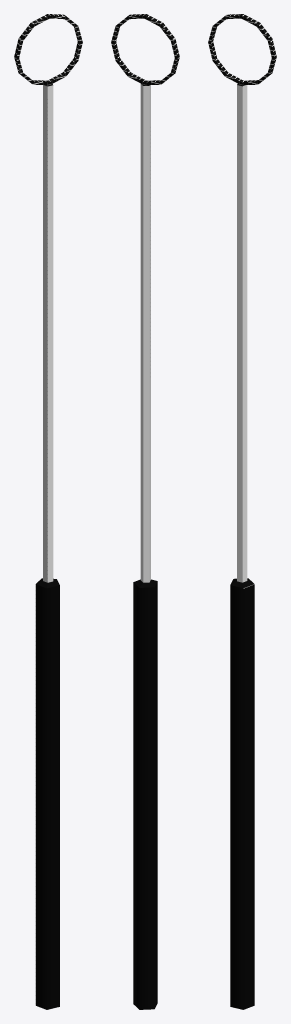
The model's file is inoculation loop.FBX.
3 views of the same model, side by side, from view 1: azimuth 30°, elevation 25°; view 2: azimuth 150°, elevation 25°; view 3: azimuth 330°, elevation 25° (orthographic).
Visible parts, largest first — view 1: streak rod handle, striek rod; view 2: streak rod handle, striek rod; view 3: streak rod handle, striek rod.
Part boxes in pixels (x1=…): streak rod handle: x1=35, y1=84, x2=59, y2=1009; striek rod: x1=14, y1=14, x2=82, y2=85; streak rod handle: x1=133, y1=84, x2=157, y2=1009; striek rod: x1=111, y1=14, x2=179, y2=85; streak rod handle: x1=230, y1=83, x2=254, y2=1009; striek rod: x1=208, y1=14, x2=276, y2=85.
Size of the model in its own units: 5.43 by 77.13 by 1.64.
Materials: 1 (1 with a texture image).
